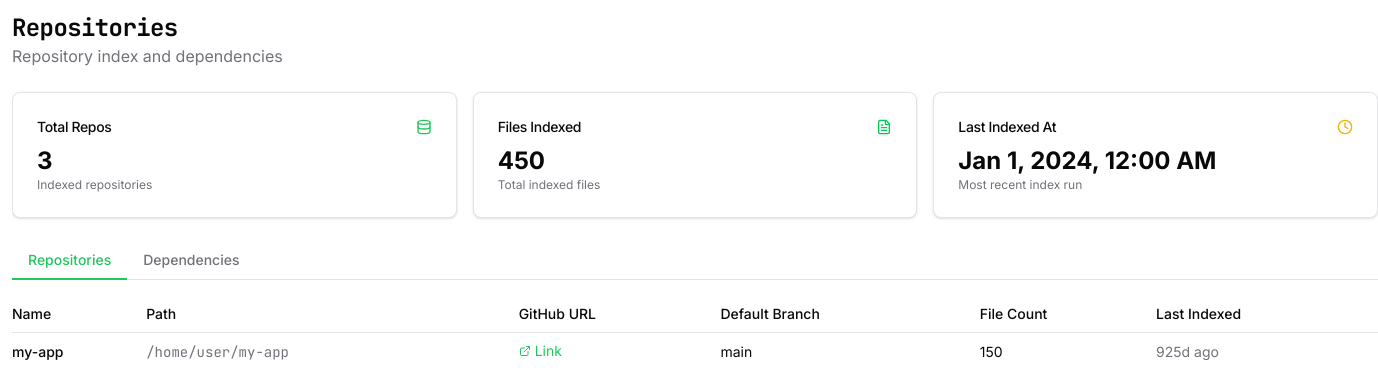
Test: Page Components › ReposPage › shows data after fetch resolves
Expected: the text "my-app" is shown, [12, 342, 64, 360]
Expected: the text "3" is shown, [37, 146, 52, 175]
Click the button "Dependencies".
click(191, 261)  # box [127, 242, 256, 280]
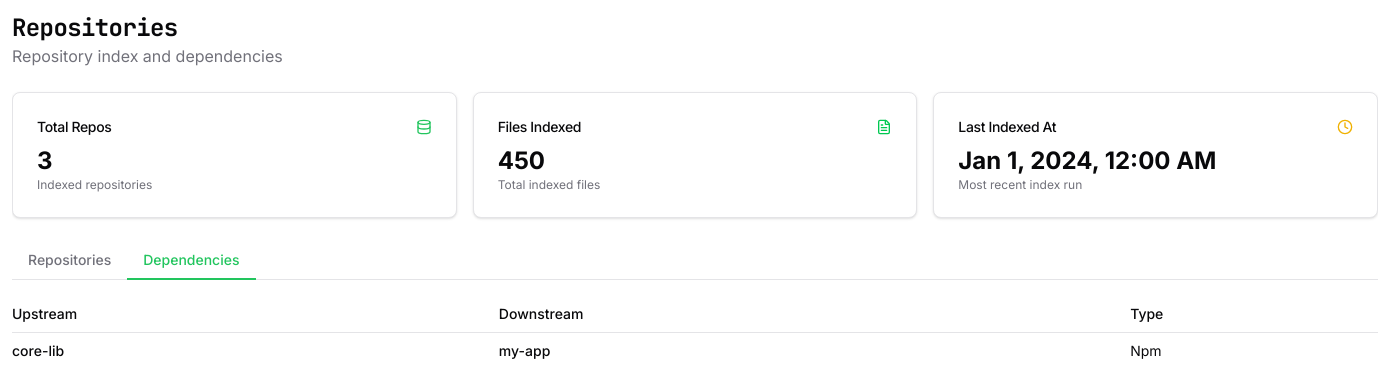
Expected: the text "core-lib" is shown, [12, 342, 64, 359]
